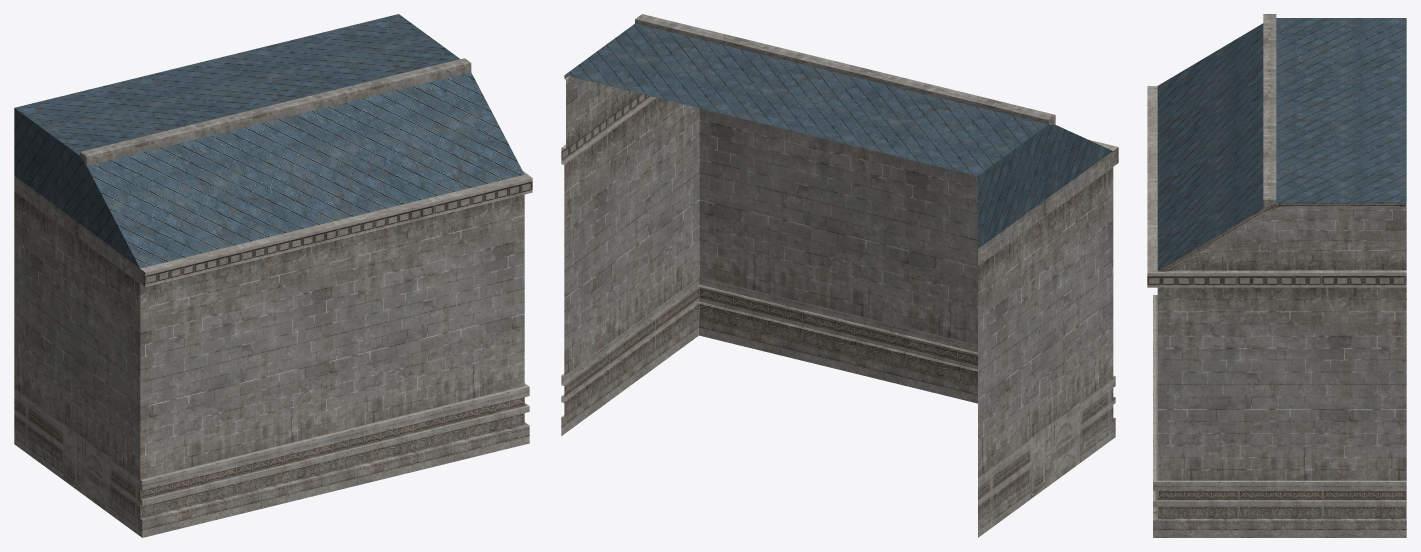
File: bg_lut_lucastle_church02_sm_ksh.FBX
3 renders of one model, left to right at view 1: azimuth 30°, elevation 25°; view 2: azimuth 150°, elevation 25°; view 3: azimuth 270°, elevation 25°, orthographic. The views are drawn at different scales.
Parts seen in each view (by area): view 1: bg_lut_lucastle_church02_sm_ksh; view 2: bg_lut_lucastle_church02_sm_ksh; view 3: bg_lut_lucastle_church02_sm_ksh.
Boxes of the visible parts, bbox=[...] form: bg_lut_lucastle_church02_sm_ksh: bbox=[14, 14, 532, 537]; bg_lut_lucastle_church02_sm_ksh: bbox=[561, 14, 1118, 537]; bg_lut_lucastle_church02_sm_ksh: bbox=[1147, 14, 1406, 537].
Bounding box in the file's own units: 991 × 833 × 580.
